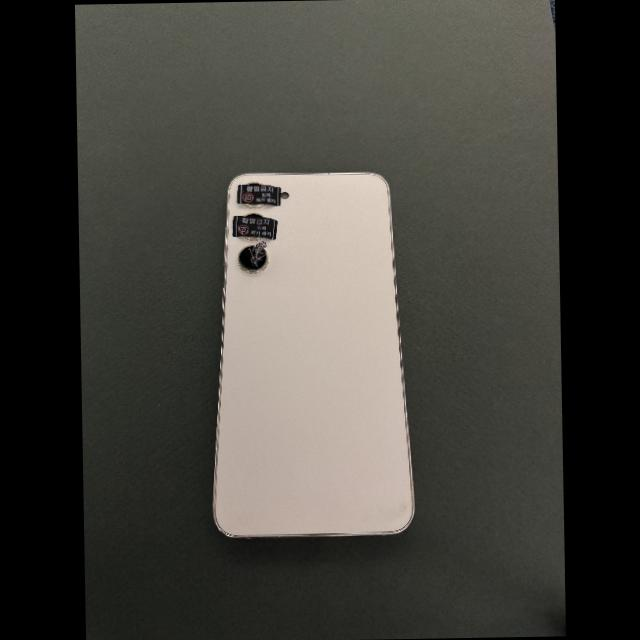lens: (239, 246, 267, 272), (243, 203, 265, 210), (243, 236, 262, 241)
phone: (213, 172, 413, 537)
sticker: (232, 215, 277, 240), (237, 184, 280, 206), (247, 241, 267, 267)
